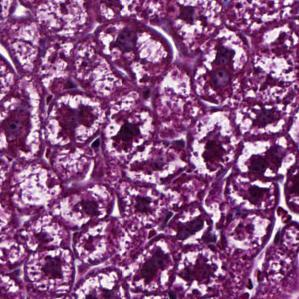inflammation: (41, 94, 103, 147), (103, 108, 154, 160)
